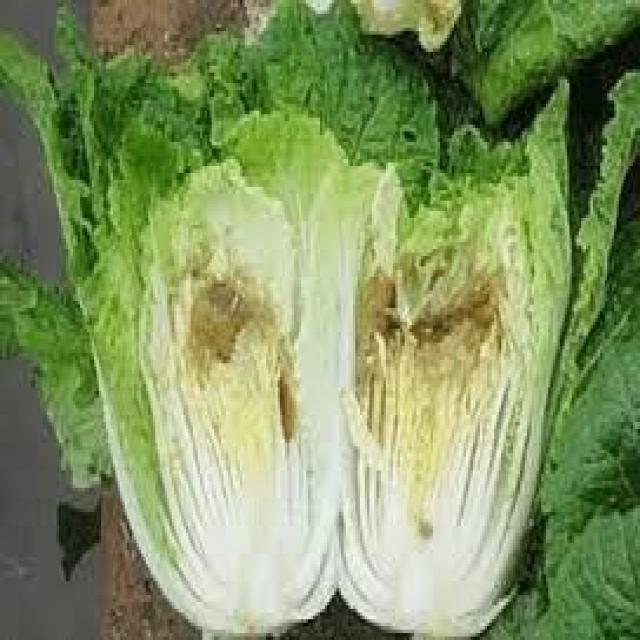organic waste: (0, 0, 572, 637), (73, 104, 376, 636), (332, 79, 569, 636), (513, 76, 638, 637), (353, 0, 638, 121)
